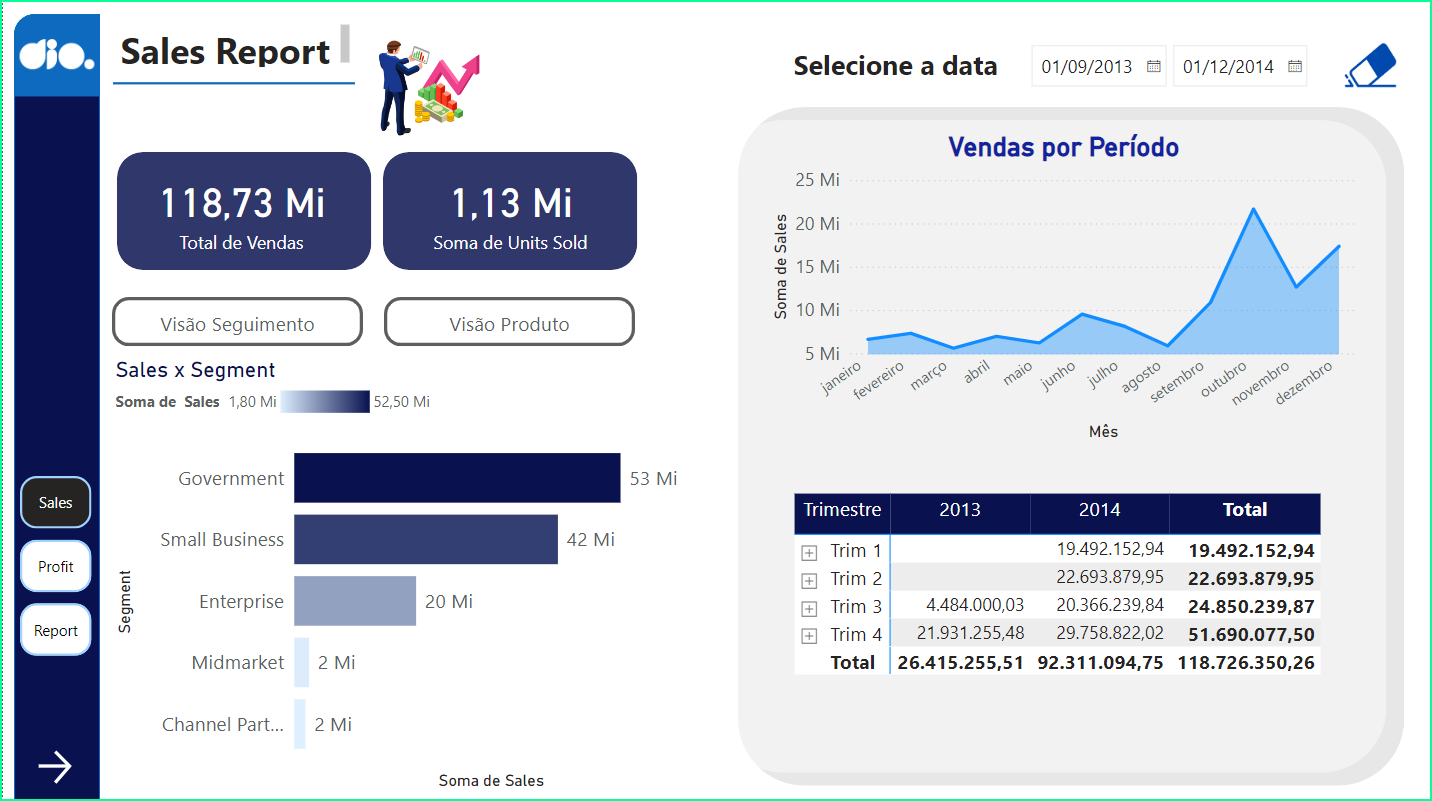

The dashboard page shown, as its layout file describes it:
{"tool":"powerbi","page":{"name":"Sales","canvas":[1280,720],"ordinal":0},"visuals":[{"type":"group","id":"g1","title":"Layout","box":[10.2,13.2,1269.8,706.7],"z":0},{"type":"slicer","fields":{"Values":["financials.Date"]},"box":[907.9,32.4,272.2,55.6],"z":0,"group":"g5"},{"type":"shape","box":[98.5,60.2,216.7,32.8],"z":0,"group":"g6"},{"type":"shape","box":[101.8,137.5,227.7,105.6],"z":0,"group":"g4"},{"type":"shape","box":[10.2,13.8,77.2,706.3],"z":1000,"group":"g1"},{"type":"textbox","box":[99.9,18.8,215.2,48.5],"z":1000,"group":"g6"},{"type":"textbox","box":[702.6,38.1,199.6,45.6],"z":1000,"group":"g5"},{"type":"areaChart","title":"Vendas por Período","fields":{"Category":["financials.Date.Variation.Hierarquia de datas.Ano","financials.Date.Variation.Hierarquia de datas.Mês"],"Y":["Sum(financials. Sales)"]},"box":[683.3,119.1,533.6,282.1],"z":1000,"group":"g3"},{"type":"shape","box":[340.1,137.5,227.7,105.6],"z":1000,"group":"g4"},{"type":"actionButton","title":"Botão - Next","box":[25.9,669,48.8,39.6],"z":1000},{"type":"shape","box":[10.2,13.8,77.2,73.8],"z":2000,"group":"g1"},{"type":"actionButton","box":[1194.4,36.7,59.9,51.3],"z":2000,"group":"g5"},{"type":"group","id":"g2","title":"Sales x Segmento","box":[96,268,522,446],"z":2000},{"type":"image","title":"logo_dio","box":[10.2,18.8,77.2,62.1],"z":3000,"group":"g1"},{"type":"image","title":"clean","box":[1194.4,32.4,59.9,55.6],"z":3000,"group":"g5"},{"type":"shape","box":[657.8,97.8,596.7,607.9],"z":3000},{"type":"clusteredBarChart","title":"Sales x Produto","fields":{"Y":["Sum(financials. Sales)"],"Category":["financials.Product"]},"box":[98.5,321.4,520.5,385.6],"z":3500,"group":"g2"},{"type":"actionButton","title":"Botão - Seguimento","box":[98.1,268,224.8,44],"z":3750,"group":"g2"},{"type":"shape","box":[87.1,13.2,1193.1,74.1],"z":4000,"group":"g1"},{"type":"shape","box":[640.5,109,598.8,584.5],"z":4000},{"type":"actionButton","title":"Botão - produto","box":[341,268,224.8,44],"z":4000,"group":"g2"},{"type":"card","fields":{"Values":["Sum(financials. Sales)"]},"box":[107.6,137.9,212.1,105.4],"z":5000,"group":"g4"},{"type":"pivotTable","fields":{"Rows":["financials.Date.Variation.Hierarquia de datas.Trimestre","financials.Date.Variation.Hierarquia de datas.Mês"],"Values":["Sum(financials. Sales)"],"Columns":["financials.Date.Variation.Hierarquia de datas.Ano"]},"box":[703.6,438.9,490.8,176.2],"z":5000},{"type":"group","id":"g3","title":"Perspectiva temporal das vendas","box":[683.3,119.1,533.6,282.1],"z":6000},{"type":"card","fields":{"Values":["Sum(financials.Units Sold)"]},"box":[347.8,137.9,212.1,105.4],"z":6000,"group":"g4"},{"type":"group","id":"g4","title":"Cartões","box":[101.8,137.5,466.4,105.9],"z":7000},{"type":"group","id":"g5","title":"Filtro por data","box":[702.6,32.4,552.3,55.3],"z":8000},{"type":"group","id":"g6","title":"Title report","box":[98.5,-0.5,378.5,162.9],"z":9000},{"type":"pageNavigator","box":[15.3,427.7,64.2,162.9],"z":10000},{"type":"image","box":[312,-0.5,165,162.9],"z":10001,"group":"g6"}]}

Visuals, with their boxes in screenshot pixels (x1, y1, x2, y2), scaled from the page's 1280x720 canvas onto the 1432x801 screenshot:
"Layout" group: box(11, 15, 1431, 800)
slicer - financials.Date: box(1016, 36, 1320, 98)
shape: box(110, 67, 353, 103)
shape: box(114, 153, 369, 270)
shape: box(11, 15, 98, 800)
textbox: box(112, 21, 353, 75)
textbox: box(786, 42, 1009, 93)
"Vendas por Período" areaChart: box(764, 132, 1361, 446)
shape: box(380, 153, 635, 270)
"Botão - Next" actionButton: box(29, 744, 84, 788)
shape: box(11, 15, 98, 97)
actionButton: box(1336, 41, 1403, 98)
"Sales x Segmento" group: box(107, 298, 691, 794)
"logo_dio" image: box(11, 21, 98, 90)
"clean" image: box(1336, 36, 1403, 98)
shape: box(736, 109, 1403, 785)
"Sales x Produto" clusteredBarChart: box(110, 358, 693, 787)
"Botão - Seguimento" actionButton: box(110, 298, 361, 347)
shape: box(97, 15, 1431, 97)
shape: box(717, 121, 1386, 772)
"Botão - produto" actionButton: box(381, 298, 633, 347)
card - Sum(financials. Sales): box(120, 153, 358, 271)
pivotTable - financials.Date.Variation.Hierarquia de datas.Trimestre x financials.Date.Variation.Hierarquia de datas.Mês: box(787, 488, 1336, 684)
"Perspectiva temporal das vendas" group: box(764, 132, 1361, 446)
card - Sum(financials.Units Sold): box(389, 153, 626, 271)
"Cartões" group: box(114, 153, 636, 271)
"Filtro por data" group: box(786, 36, 1404, 98)
"Title report" group: box(110, 0, 534, 181)
pageNavigator: box(17, 476, 89, 657)
image: box(349, 0, 534, 181)
